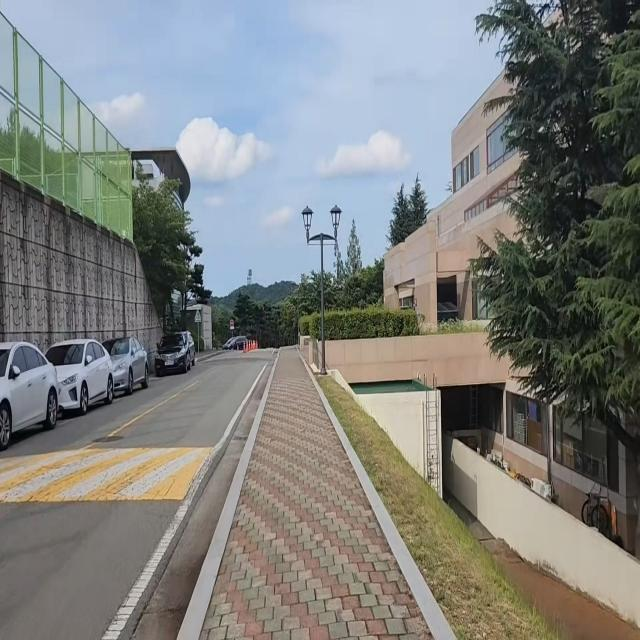road: (0, 345, 278, 640)
sidewalk: (178, 344, 463, 640)
